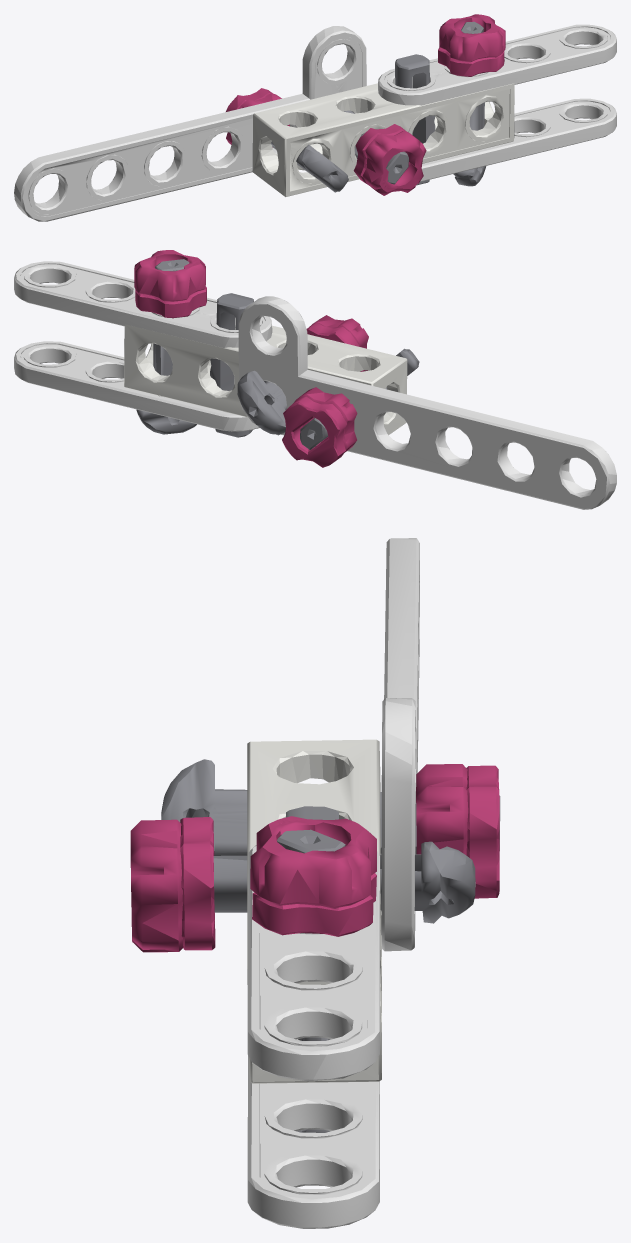
Rendered from state6.fbx.
3 renders of one model, top to bottom at view 1: azimuth 30°, elevation 25°; view 2: azimuth 150°, elevation 25°; view 3: azimuth 270°, elevation 25°, orthographic. The views are drawn at different scales.
Parts seen in each view (by area): view 1: Nut PH CL BU01.00x5mm - SPN-NUT-0018 (stemfie.org).003; view 2: Nut PH CL BU01.00x5mm - SPN-NUT-0018 (stemfie.org).003; view 3: Nut PH CL BU01.00x5mm - SPN-NUT-0018 (stemfie.org).003.
Part boxes in pixels (box(x1,y1,x2,y2)): Nut PH CL BU01.00x5mm - SPN-NUT-0018 (stemfie.org).003: box(14, 14, 616, 221); Nut PH CL BU01.00x5mm - SPN-NUT-0018 (stemfie.org).003: box(14, 250, 616, 509); Nut PH CL BU01.00x5mm - SPN-NUT-0018 (stemfie.org).003: box(130, 538, 500, 1228).
Size of the model in its own units: 12452 by 3429 by 3481.
